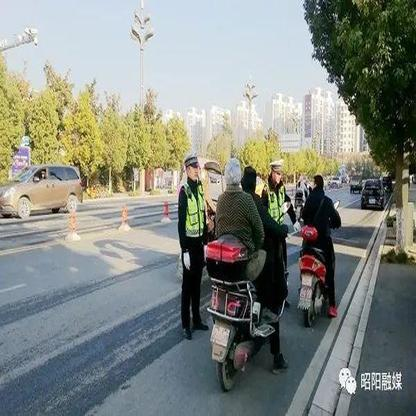target: (205, 158, 291, 395), (295, 173, 345, 327)
